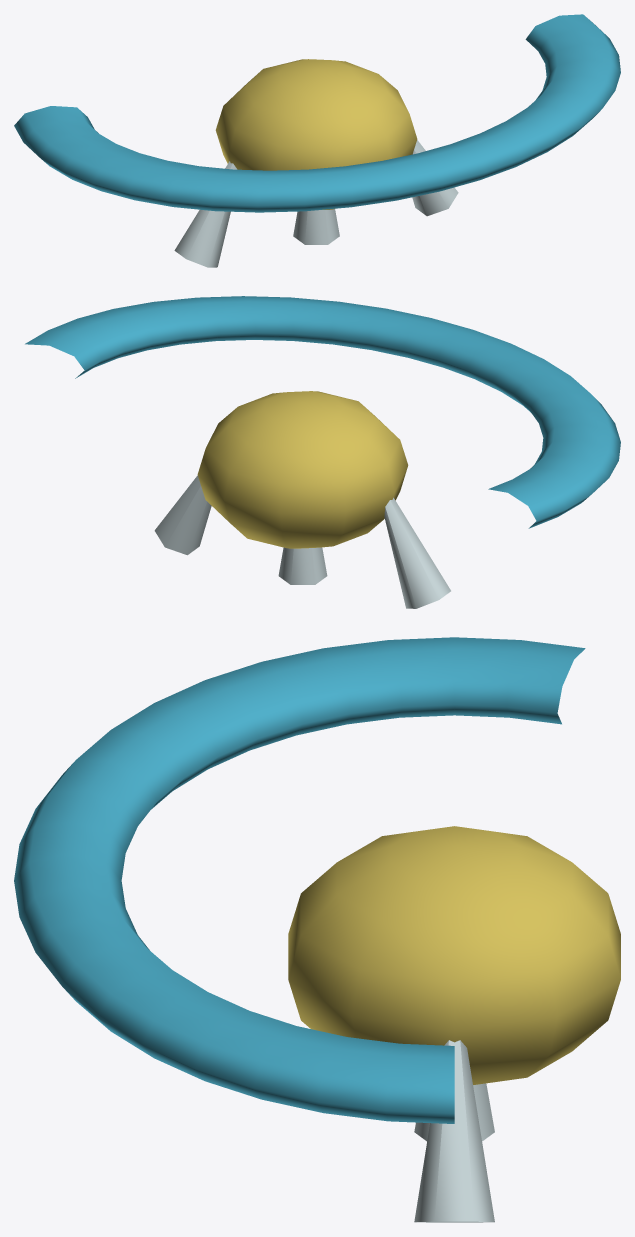
The model's file is one_hand_blade.glb.
The picture shows the model from 3 angles, top to bottom: view 1: azimuth 30°, elevation 25°; view 2: azimuth 150°, elevation 25°; view 3: azimuth 270°, elevation 25°; orthographic projection. The views are drawn at different scales.
Parts seen in each view (by area): view 1: one_hand_blade_arc, one_hand_blade_impact, one_hand_blade_shard_0, one_hand_blade_shard_1, one_hand_blade_shard_2; view 2: one_hand_blade_arc, one_hand_blade_impact, one_hand_blade_shard_0, one_hand_blade_shard_2, one_hand_blade_shard_1; view 3: one_hand_blade_arc, one_hand_blade_impact, one_hand_blade_shard_2, one_hand_blade_shard_1.
Part boxes in pixels (x1=…): one_hand_blade_arc: x1=14, y1=14, x2=620, y2=212; one_hand_blade_impact: x1=215, y1=59, x2=417, y2=209; one_hand_blade_shard_0: x1=174, y1=161, x2=237, y2=267; one_hand_blade_shard_1: x1=293, y1=209, x2=339, y2=244; one_hand_blade_shard_2: x1=412, y1=140, x2=458, y2=216; one_hand_blade_arc: x1=25, y1=296, x2=620, y2=528; one_hand_blade_impact: x1=197, y1=391, x2=408, y2=548; one_hand_blade_shard_0: x1=384, y1=497, x2=450, y2=608; one_hand_blade_shard_2: x1=154, y1=475, x2=211, y2=555; one_hand_blade_shard_1: x1=278, y1=547, x2=327, y2=584; one_hand_blade_arc: x1=14, y1=637, x2=585, y2=1123; one_hand_blade_impact: x1=288, y1=826, x2=620, y2=1084; one_hand_blade_shard_2: x1=414, y1=1040, x2=494, y2=1222; one_hand_blade_shard_1: x1=414, y1=1083, x2=494, y2=1141.
Size of what is drawn, in the model's own units: 3.27 by 0.9469 by 1.8.
